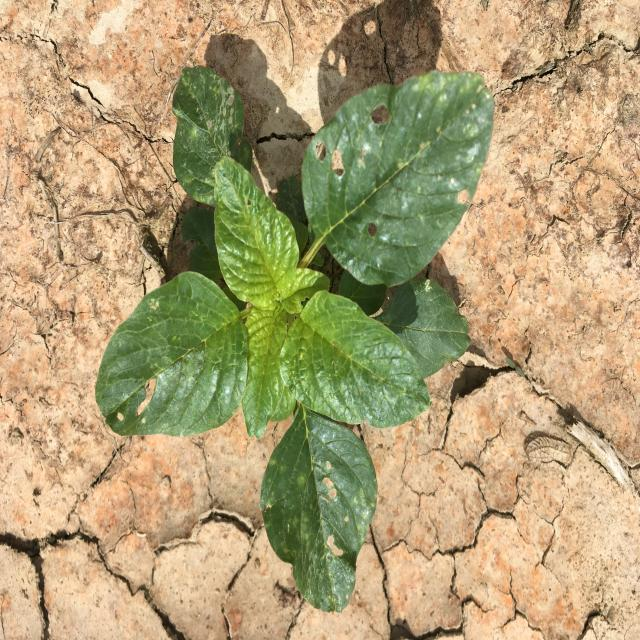PalmerAmaranth: (95, 65, 495, 613)
